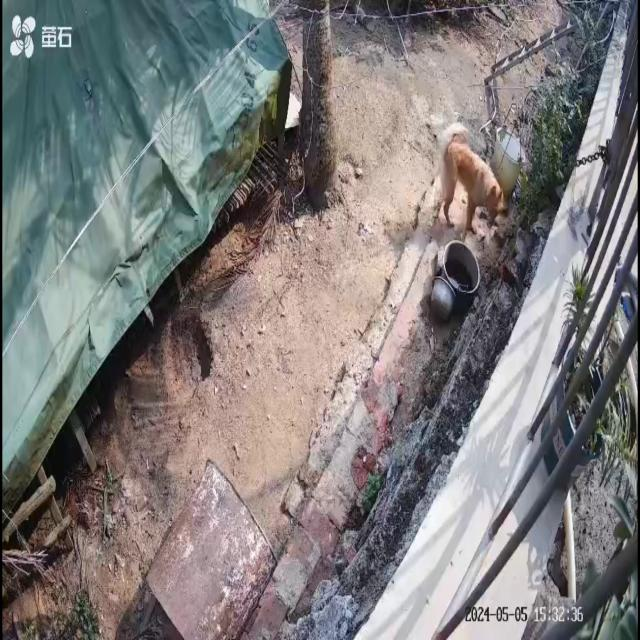dog: (433, 123, 509, 235)
